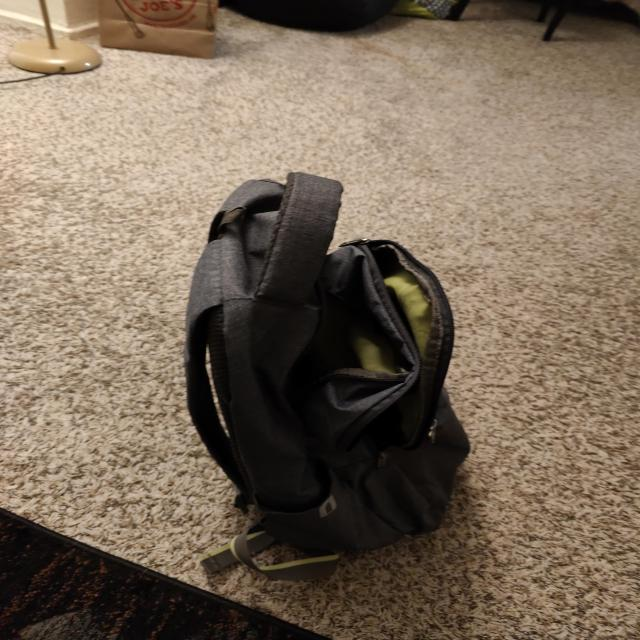bag: (188, 186, 452, 534)
